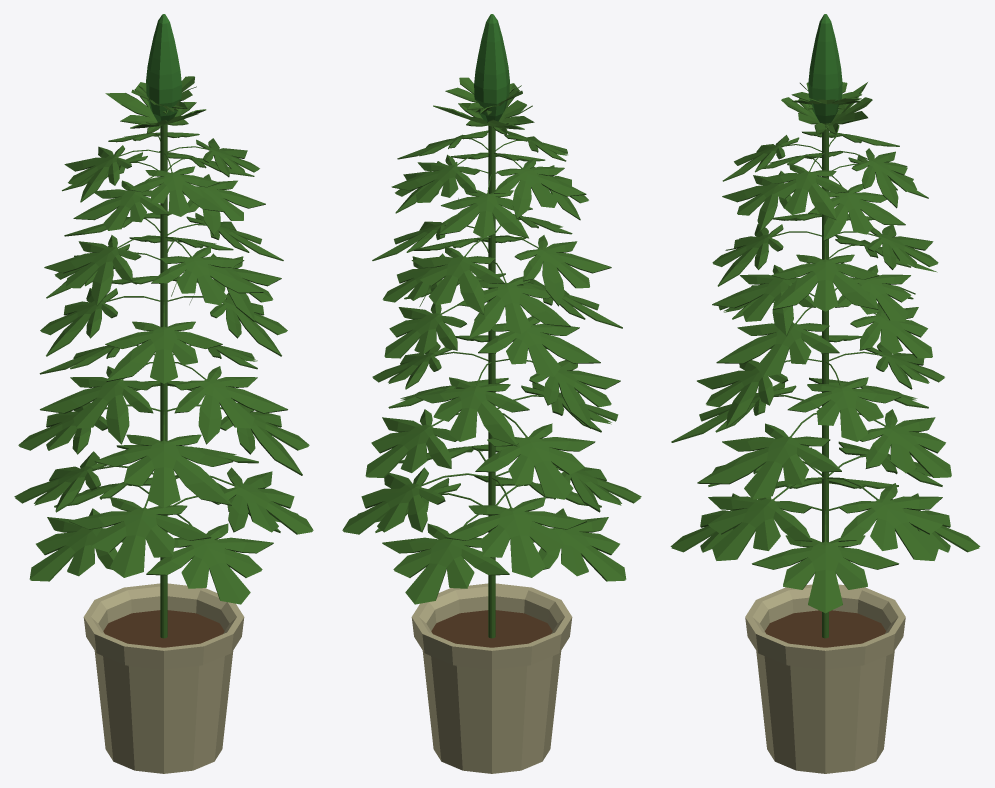
File: Clipped Plant.fbx
3 views of the same model, side by side, from view 1: azimuth 30°, elevation 25°; view 2: azimuth 150°, elevation 25°; view 3: azimuth 270°, elevation 25° (orthographic).
Visible parts, largest first — view 1: Marijuana Plant, Pot, Dirt; view 2: Marijuana Plant, Pot, Dirt; view 3: Marijuana Plant, Pot, Dirt.
Part boxes in pixels (left/top/right/bottom): Marijuana Plant: left=14, top=14, right=313, bottom=638; Pot: left=83, top=583, right=244, bottom=773; Dirt: left=103, top=610, right=224, bottom=647; Marijuana Plant: left=342, top=14, right=641, bottom=638; Pot: left=411, top=583, right=572, bottom=773; Dirt: left=431, top=610, right=552, bottom=647; Marijuana Plant: left=670, top=14, right=980, bottom=638; Pot: left=745, top=584, right=905, bottom=773; Dirt: left=764, top=610, right=886, bottom=647.
Bounding box in the file's own units: 319 × 833 × 319.
